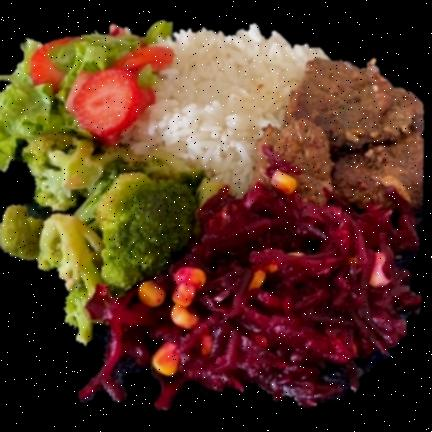beet: (78, 183, 420, 409)
broccoli: (0, 133, 218, 342)
meat: (259, 58, 423, 211)
rice: (121, 24, 327, 195)
salad: (0, 34, 138, 171)
tomato: (65, 47, 173, 145)
